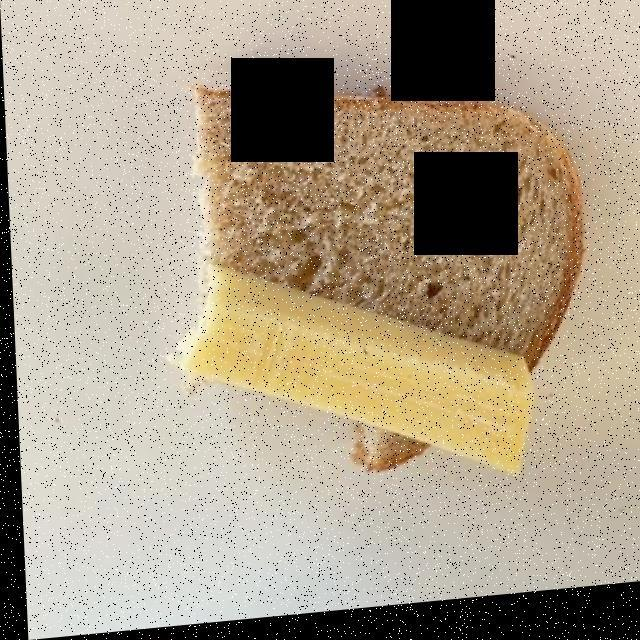bread: (184, 96, 580, 476)
cheese: (163, 258, 523, 489)
